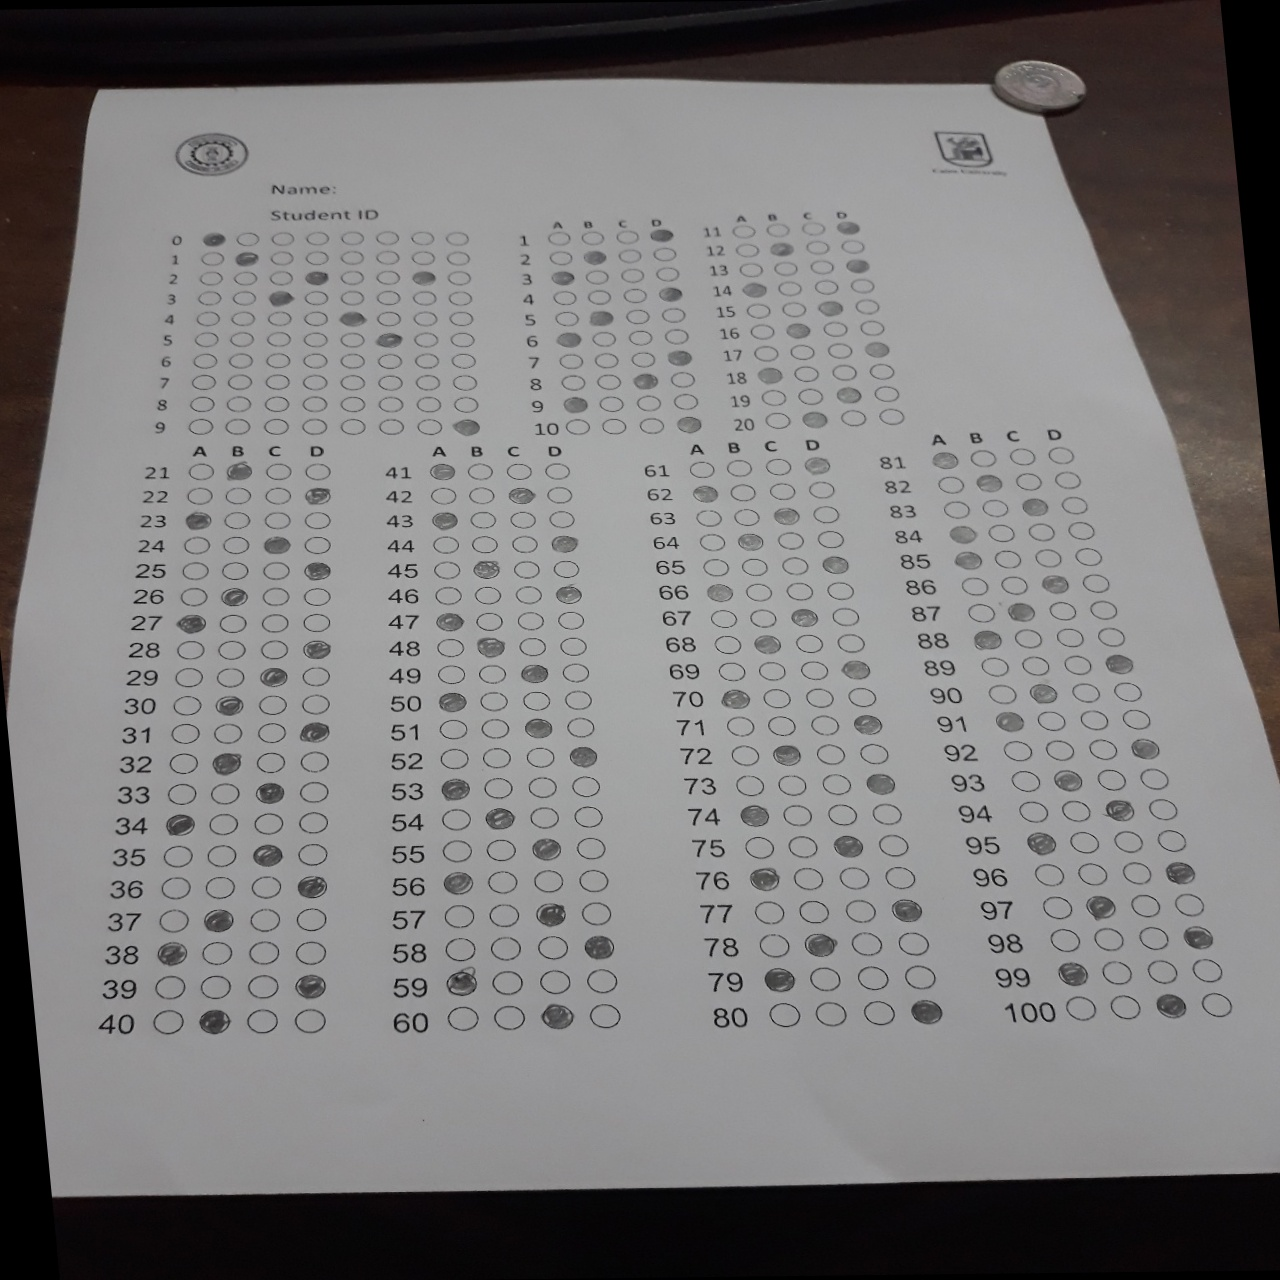not-c: (245, 938, 282, 965), (149, 1008, 188, 1034), (869, 799, 904, 828), (292, 1006, 327, 1034), (244, 972, 281, 998), (155, 906, 192, 932), (157, 874, 195, 900), (243, 1008, 281, 1033), (785, 832, 821, 859), (152, 973, 189, 999), (198, 973, 234, 999), (199, 940, 236, 966), (246, 906, 282, 932), (248, 874, 285, 900), (159, 843, 196, 869), (292, 940, 329, 965), (292, 906, 329, 931), (202, 874, 239, 899), (252, 719, 290, 743), (903, 962, 937, 989), (897, 930, 931, 956), (758, 932, 792, 959), (751, 898, 785, 925), (781, 802, 815, 829), (726, 742, 760, 769), (806, 712, 840, 738), (765, 1001, 801, 1027), (874, 831, 910, 857), (741, 835, 776, 860), (445, 1005, 481, 1030), (207, 781, 244, 805), (209, 721, 245, 745), (256, 692, 292, 716), (298, 692, 334, 716), (856, 964, 888, 990), (163, 782, 200, 805), (169, 693, 206, 716), (813, 1000, 847, 1026), (806, 965, 840, 990), (849, 930, 883, 955), (797, 898, 831, 924), (843, 897, 877, 922), (881, 864, 915, 890), (825, 802, 859, 828), (819, 770, 853, 796), (775, 772, 809, 798), (733, 771, 767, 797), (813, 741, 847, 767), (857, 740, 891, 765), (486, 903, 520, 928), (835, 864, 870, 888), (442, 903, 477, 927), (488, 935, 523, 960), (492, 1005, 527, 1029), (204, 844, 240, 867), (294, 843, 331, 866), (298, 749, 334, 772), (165, 753, 202, 776), (168, 721, 204, 744), (1032, 862, 1065, 886), (862, 1000, 896, 1024), (791, 866, 825, 891), (723, 713, 757, 737), (443, 937, 477, 961), (579, 900, 613, 925), (489, 971, 523, 995), (791, 631, 826, 654), (536, 934, 571, 958), (586, 1003, 621, 1027), (295, 811, 331, 835), (250, 812, 286, 835), (205, 812, 241, 835), (253, 751, 290, 774), (259, 509, 295, 531), (1092, 926, 1125, 951), (1190, 956, 1223, 981), (1200, 992, 1233, 1016), (1063, 995, 1096, 1020), (1040, 894, 1074, 918), (1128, 893, 1162, 917), (764, 713, 798, 736), (802, 686, 836, 709), (797, 658, 831, 681), (715, 659, 749, 682), (585, 968, 619, 992), (539, 969, 573, 993), (297, 779, 332, 802), (1111, 829, 1144, 852), (1172, 892, 1205, 915), (1138, 926, 1171, 949), (1048, 928, 1081, 952), (1101, 960, 1133, 983), (1145, 960, 1178, 983), (1109, 994, 1142, 1017), (845, 685, 878, 708), (755, 658, 788, 681), (578, 869, 611, 892), (1065, 830, 1099, 852), (760, 686, 794, 708), (710, 633, 744, 655), (835, 632, 869, 654), (745, 607, 779, 629), (706, 607, 740, 629), (823, 579, 857, 601), (527, 805, 561, 828), (440, 806, 474, 829), (215, 613, 248, 635), (259, 586, 293, 608), (176, 585, 210, 607), (178, 560, 212, 583), (260, 558, 294, 580), (1156, 828, 1187, 851), (533, 869, 565, 892), (171, 666, 206, 687), (300, 586, 335, 607), (543, 483, 576, 505), (433, 584, 465, 606), (441, 839, 474, 862), (484, 838, 517, 860), (573, 837, 606, 859), (486, 871, 519, 893), (828, 606, 862, 627), (777, 554, 811, 576), (568, 775, 602, 796), (213, 667, 247, 688), (297, 665, 331, 686), (256, 639, 290, 660), (215, 639, 248, 660), (173, 640, 207, 661), (259, 612, 293, 633), (299, 611, 333, 632), (217, 560, 251, 581), (181, 535, 215, 556), (300, 533, 334, 554), (301, 509, 335, 530), (1138, 765, 1169, 789), (1077, 862, 1108, 885), (1033, 546, 1064, 568), (1095, 768, 1126, 790), (1146, 797, 1178, 819), (1017, 799, 1049, 822), (1121, 860, 1152, 883), (775, 529, 806, 551), (464, 459, 496, 482), (512, 583, 544, 605), (563, 688, 594, 710), (564, 716, 595, 738), (742, 581, 775, 602), (782, 579, 815, 600), (738, 556, 771, 577), (550, 557, 583, 578), (515, 610, 547, 631), (434, 663, 467, 685), (475, 663, 508, 685), (526, 777, 559, 798), (572, 805, 605, 826), (723, 457, 754, 479), (219, 535, 253, 554), (1006, 445, 1037, 467), (1065, 519, 1097, 540), (1024, 520, 1056, 542), (1095, 625, 1126, 646), (1060, 799, 1091, 821), (700, 556, 731, 577), (696, 531, 728, 552), (815, 527, 846, 549), (731, 506, 763, 527), (693, 506, 724, 527), (542, 459, 573, 481), (465, 485, 497, 506), (508, 509, 539, 530), (431, 559, 463, 580), (471, 584, 503, 605), (510, 558, 542, 579), (474, 610, 505, 631), (434, 636, 465, 658), (479, 717, 511, 738), (425, 486, 458, 506), (468, 533, 501, 553), (515, 635, 547, 655), (481, 747, 513, 767), (968, 447, 999, 468), (1051, 469, 1082, 490), (1057, 493, 1088, 515), (1012, 627, 1042, 648), (1062, 653, 1092, 674), (987, 683, 1017, 704), (1069, 680, 1099, 701), (810, 503, 840, 524), (504, 459, 535, 481), (430, 535, 461, 556), (560, 661, 591, 682), (478, 690, 509, 712), (979, 496, 1010, 516), (983, 523, 1015, 543), (998, 574, 1029, 594), (965, 602, 996, 622), (1046, 599, 1077, 619), (1087, 599, 1118, 619), (1054, 627, 1085, 647), (978, 656, 1009, 676), (1087, 738, 1118, 758), (876, 406, 907, 425), (727, 481, 758, 501), (765, 481, 797, 501), (805, 478, 837, 498), (685, 458, 716, 478), (467, 509, 498, 529), (509, 535, 540, 554), (554, 610, 586, 629), (519, 690, 551, 710), (440, 748, 471, 768), (483, 777, 515, 797), (263, 485, 294, 505), (301, 461, 333, 481), (263, 462, 295, 481), (1046, 445, 1076, 465), (1013, 470, 1043, 490), (935, 474, 966, 493), (940, 499, 971, 519), (992, 549, 1022, 568), (1073, 546, 1103, 566), (1078, 573, 1109, 593), (960, 576, 990, 595), (1019, 655, 1049, 675), (1110, 680, 1141, 700), (1119, 709, 1150, 729), (1036, 710, 1067, 730), (1002, 740, 1033, 760), (1009, 770, 1040, 790), (838, 407, 869, 427), (764, 456, 795, 476), (546, 508, 577, 527), (557, 636, 587, 656), (438, 719, 469, 738), (524, 747, 554, 767), (186, 461, 217, 481), (222, 510, 253, 529), (183, 486, 215, 505), (222, 485, 253, 504), (1080, 708, 1109, 728), (1044, 740, 1074, 760), (858, 318, 887, 336), (852, 297, 881, 315), (830, 363, 858, 382), (795, 387, 823, 406), (753, 343, 781, 362), (748, 322, 776, 341), (779, 300, 809, 318), (872, 384, 900, 402), (825, 340, 853, 358), (788, 342, 816, 360), (792, 363, 821, 381), (821, 320, 849, 338), (225, 372, 253, 389), (268, 268, 297, 286), (444, 229, 472, 246), (268, 230, 297, 247), (760, 388, 787, 406), (764, 410, 791, 428), (777, 279, 804, 297), (300, 417, 327, 435), (413, 352, 440, 369), (339, 331, 366, 348), (263, 350, 290, 368), (445, 248, 472, 266), (867, 362, 896, 379), (564, 418, 592, 435), (411, 331, 440, 347), (264, 373, 292, 389), (227, 352, 256, 368), (191, 352, 219, 368), (189, 373, 217, 389), (193, 309, 222, 326), (445, 268, 474, 285), (408, 230, 436, 246), (302, 229, 331, 245), (268, 248, 294, 266), (339, 288, 365, 306), (579, 229, 606, 245), (672, 393, 699, 409), (635, 394, 662, 410), (597, 395, 624, 411), (225, 417, 252, 434), (301, 395, 328, 411), (339, 395, 366, 411), (377, 375, 404, 392), (377, 353, 404, 369), (415, 373, 442, 389), (451, 374, 478, 390), (451, 352, 478, 368), (449, 331, 476, 347), (339, 352, 366, 368), (339, 374, 366, 390), (301, 374, 328, 390), (301, 352, 328, 368), (301, 331, 328, 347), (229, 331, 256, 347), (197, 290, 224, 306), (199, 248, 226, 265), (232, 270, 259, 286), (231, 290, 258, 306), (230, 309, 257, 326), (304, 248, 331, 265), (302, 309, 329, 326), (339, 268, 366, 285), (338, 248, 365, 265), (373, 248, 400, 265), (375, 268, 402, 285), (410, 309, 437, 326), (409, 248, 436, 265), (338, 229, 365, 245), (233, 230, 260, 246), (804, 239, 832, 254), (377, 418, 406, 434), (265, 331, 293, 346), (192, 331, 220, 346), (302, 290, 331, 305), (849, 277, 874, 293), (592, 331, 618, 347), (558, 353, 584, 369), (638, 416, 663, 433), (414, 395, 440, 411), (225, 395, 251, 411), (267, 309, 293, 326), (411, 290, 437, 306), (745, 302, 772, 318), (813, 279, 840, 294), (809, 258, 836, 273), (772, 260, 799, 275), (731, 223, 758, 238), (838, 238, 865, 253), (615, 229, 642, 244), (546, 230, 573, 245), (549, 248, 576, 264), (651, 246, 678, 261), (583, 268, 610, 284), (663, 328, 690, 343), (629, 350, 656, 366), (593, 352, 620, 367), (595, 373, 622, 388), (599, 417, 626, 433), (452, 396, 479, 411), (416, 418, 443, 434), (339, 418, 366, 434), (263, 418, 290, 434), (188, 418, 215, 434), (263, 396, 290, 411), (377, 396, 404, 411), (198, 268, 225, 284), (375, 290, 402, 305), (376, 309, 403, 325), (448, 290, 475, 305), (448, 309, 475, 325), (374, 229, 401, 244), (734, 241, 760, 257), (764, 222, 790, 237), (617, 248, 642, 264), (655, 266, 681, 281), (620, 267, 646, 282), (587, 288, 613, 304), (553, 290, 579, 305), (622, 287, 648, 302), (625, 308, 651, 324), (554, 309, 580, 325), (660, 307, 686, 322), (560, 375, 586, 390), (189, 396, 215, 411), (737, 263, 764, 277), (799, 220, 826, 234), (628, 329, 654, 343), (670, 372, 696, 386)
taken-c: (580, 932, 617, 960), (538, 1003, 576, 1030), (1180, 924, 1216, 948), (1028, 680, 1063, 704), (908, 1000, 942, 1024), (1155, 993, 1189, 1017), (1051, 767, 1085, 791), (1005, 597, 1039, 621), (529, 837, 564, 860), (248, 844, 285, 866), (292, 876, 328, 898), (292, 975, 328, 998), (442, 871, 478, 893), (532, 903, 568, 925), (969, 626, 1002, 651), (888, 898, 922, 921), (761, 967, 795, 990), (1058, 961, 1092, 985), (1085, 893, 1119, 917), (1026, 831, 1060, 855), (1101, 797, 1135, 821), (1164, 862, 1198, 885), (990, 708, 1024, 731), (1102, 651, 1136, 674), (200, 908, 236, 931), (156, 942, 191, 965), (444, 972, 479, 994), (804, 933, 837, 956), (1132, 736, 1165, 760), (161, 813, 197, 835), (196, 1010, 232, 1032), (483, 806, 516, 829), (437, 778, 470, 801), (520, 661, 550, 685), (802, 452, 832, 475), (523, 717, 554, 738), (946, 523, 978, 544), (297, 721, 329, 741), (209, 753, 241, 772), (438, 692, 468, 714), (568, 745, 599, 767), (435, 611, 465, 632), (789, 606, 819, 627), (721, 687, 751, 708), (952, 549, 982, 570), (215, 694, 246, 714), (254, 782, 286, 802), (1039, 573, 1070, 593), (549, 531, 578, 552), (429, 459, 458, 481), (770, 505, 799, 526), (819, 553, 849, 574), (704, 580, 734, 601), (839, 659, 869, 680), (865, 772, 894, 794), (835, 835, 864, 856), (973, 471, 1002, 492), (257, 666, 290, 685), (476, 636, 506, 656), (469, 559, 499, 579), (735, 532, 765, 552), (748, 869, 778, 888), (433, 510, 461, 531), (754, 633, 782, 654), (552, 583, 581, 602), (506, 485, 536, 505), (770, 744, 799, 764), (852, 713, 881, 733), (740, 805, 769, 825), (1022, 495, 1051, 515), (930, 451, 959, 471), (263, 535, 293, 553), (300, 640, 331, 659), (692, 483, 720, 503), (844, 257, 874, 274), (833, 386, 864, 403), (663, 348, 694, 366), (407, 268, 437, 286), (184, 511, 215, 529), (862, 341, 893, 358), (781, 322, 812, 339), (767, 239, 798, 256), (753, 366, 784, 382), (561, 394, 591, 411), (338, 309, 367, 327), (199, 229, 229, 246), (223, 462, 252, 479), (302, 486, 332, 504), (832, 218, 863, 234), (817, 300, 847, 316), (801, 411, 831, 428), (737, 282, 768, 299), (673, 416, 703, 433), (585, 309, 615, 326), (579, 250, 610, 266), (450, 418, 481, 435), (373, 331, 403, 347), (302, 561, 333, 578), (175, 615, 206, 631), (648, 226, 678, 243), (655, 285, 685, 301), (553, 331, 583, 347), (549, 268, 578, 285), (302, 268, 332, 285), (267, 290, 297, 306), (222, 587, 251, 604), (629, 372, 658, 388), (234, 250, 261, 265)
